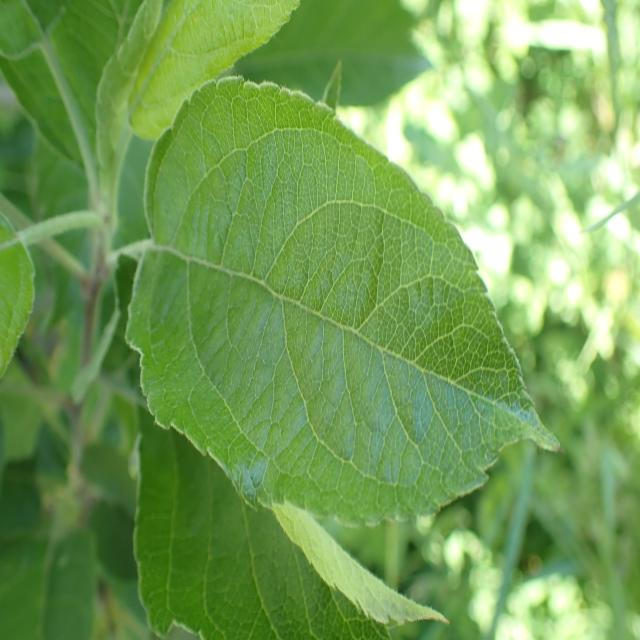healthy: (123, 75, 564, 529), (134, 412, 452, 640), (96, 0, 301, 141), (0, 210, 36, 380)
